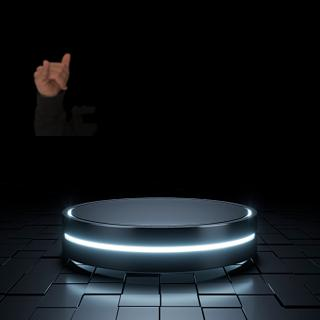HAVE: (26, 48, 80, 102)
